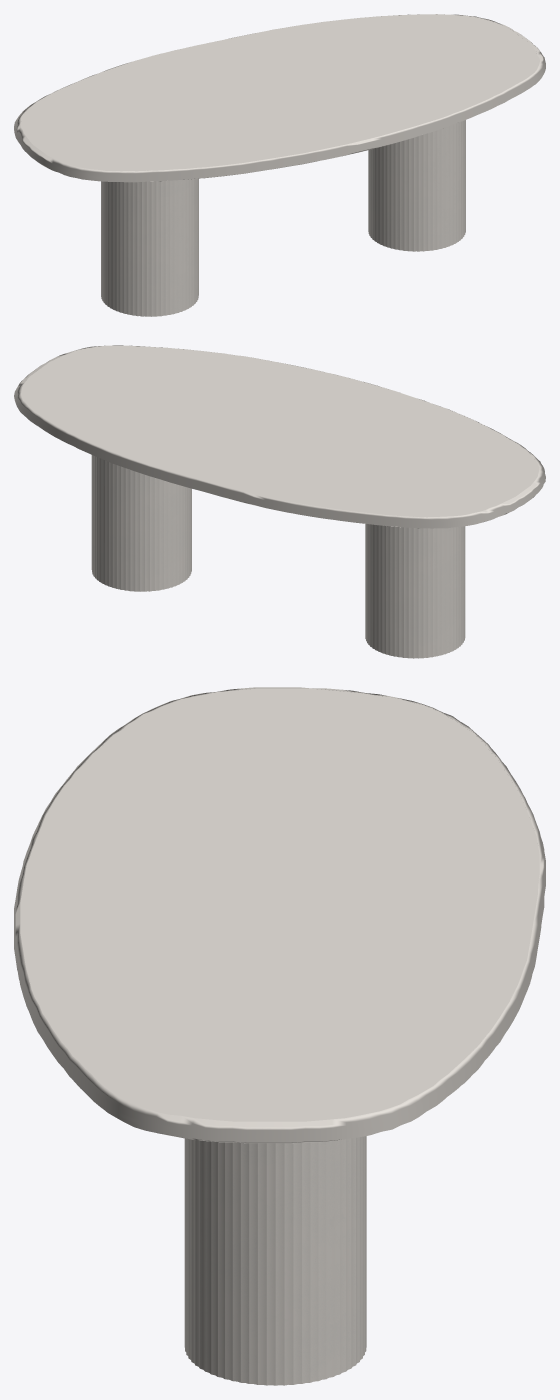
Rendered from pearlwhite_danish_round_ripplesecond.glb.
3 renders of one model, top to bottom at view 1: azimuth 30°, elevation 25°; view 2: azimuth 150°, elevation 25°; view 3: azimuth 270°, elevation 25°, orthographic. The views are drawn at different scales.
Visible parts, largest first — view 1: round_danish, ripplesecond; view 2: round_danish, ripplesecond; view 3: round_danish, ripplesecond.
Boxes of the visible parts, box(x1,y1,x2,y2) form: round_danish: box(14, 14, 545, 182); ripplesecond: box(101, 120, 465, 316); round_danish: box(14, 345, 545, 528); ripplesecond: box(91, 455, 465, 658); round_danish: box(14, 687, 545, 1143); ripplesecond: box(184, 1136, 366, 1385).
Size of the model in its own units: 7.5 by 2.5 by 3.8.
1 material, 1 textured.
